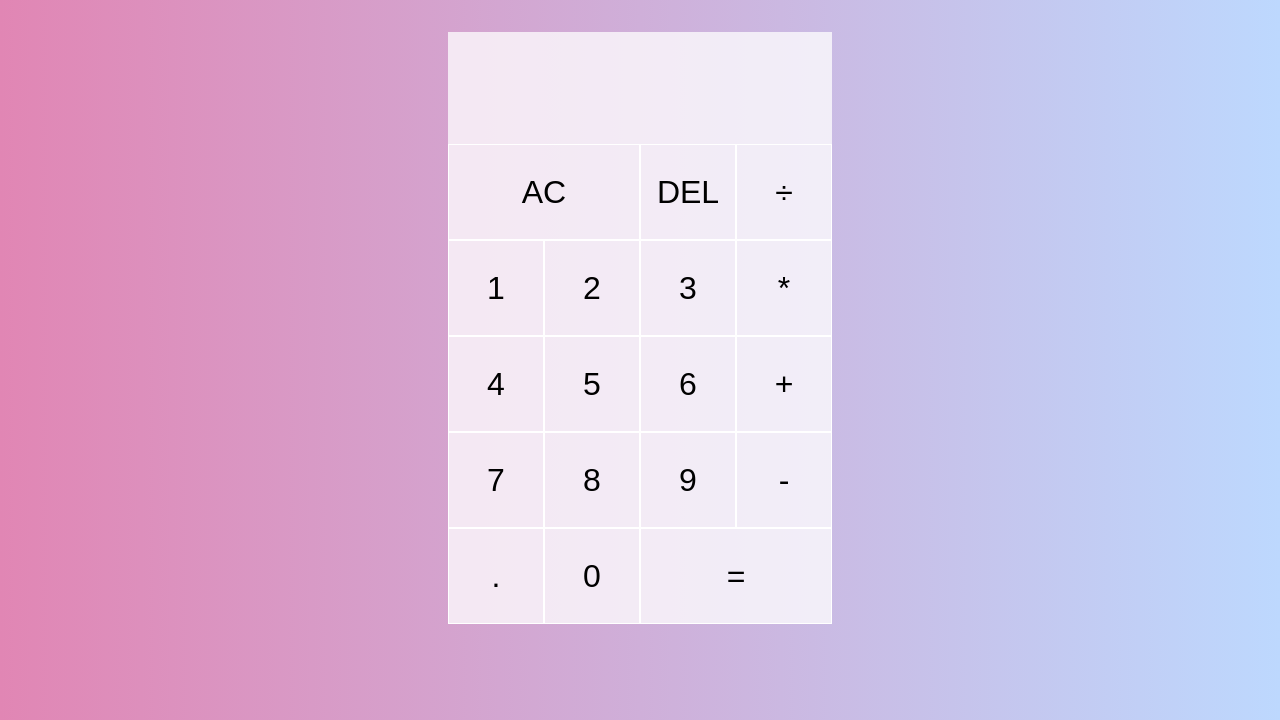
Test: calculator › should multiply two numbers
Click the button "5". click: (592, 384)
box: left=544, top=336, right=640, bottom=432
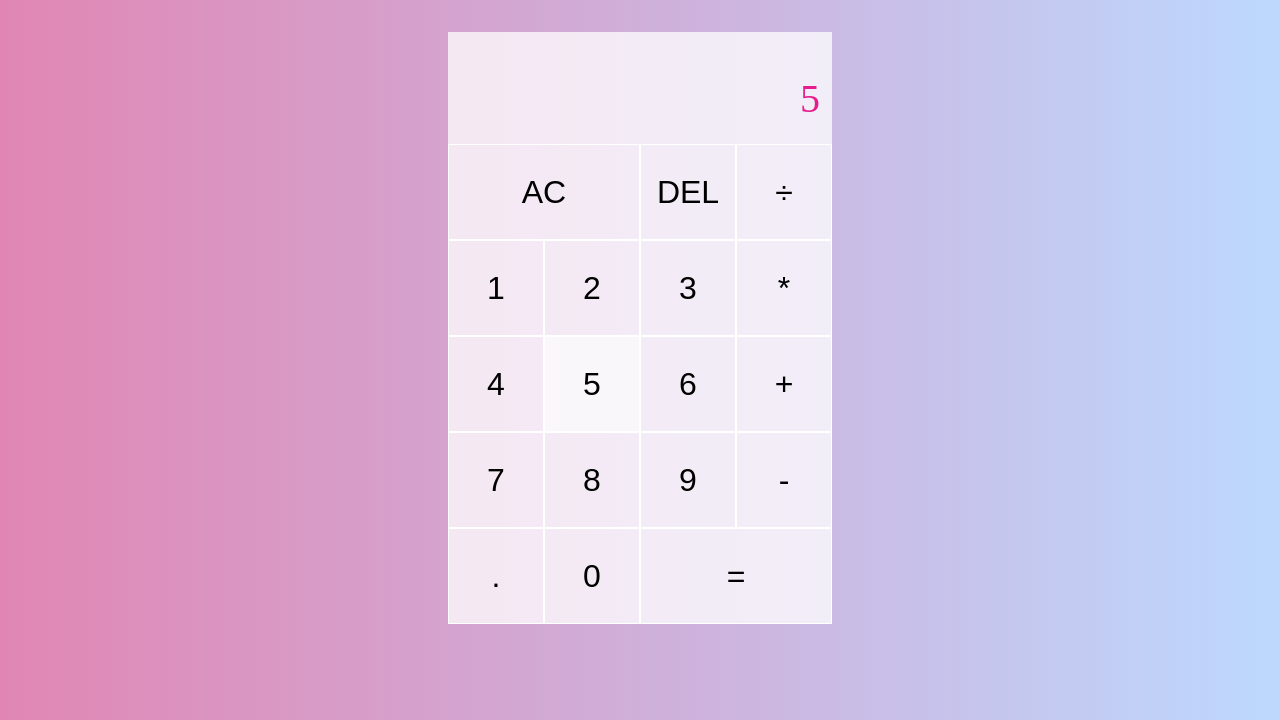
Click the button "*". click: (784, 288)
box: left=736, top=240, right=832, bottom=336
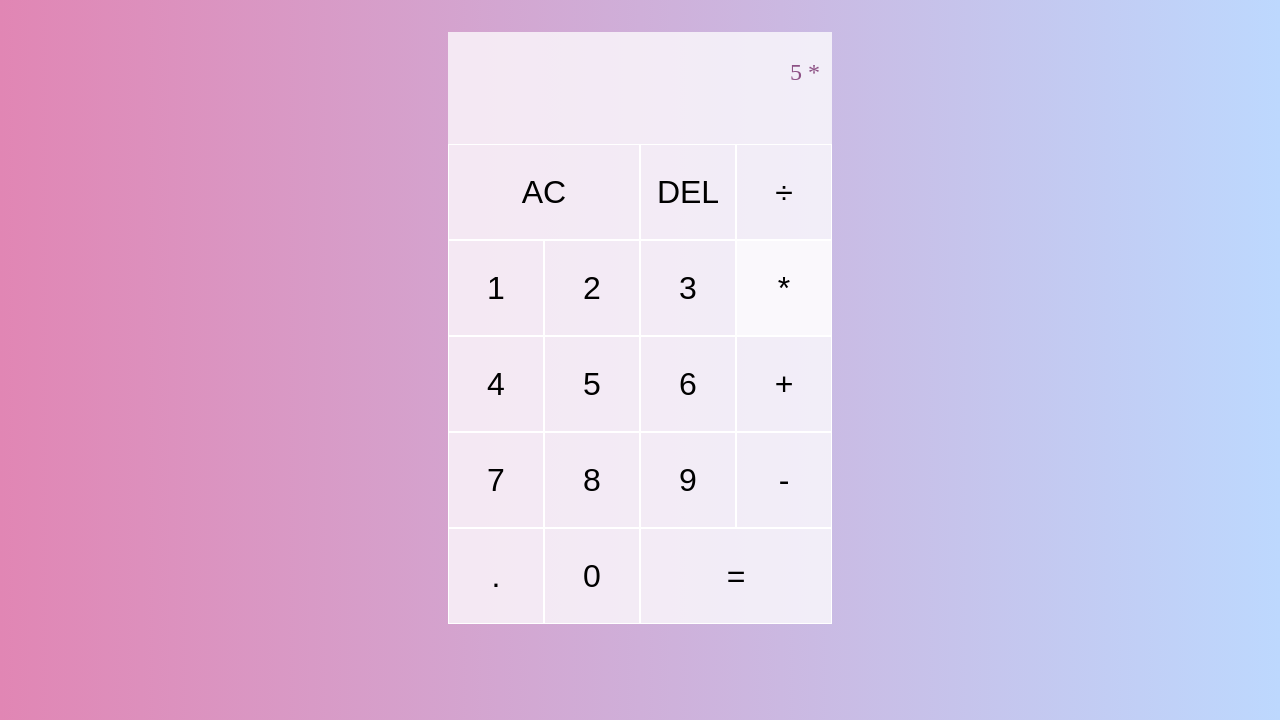
Click the button "4". click: (496, 384)
box: left=448, top=336, right=544, bottom=432
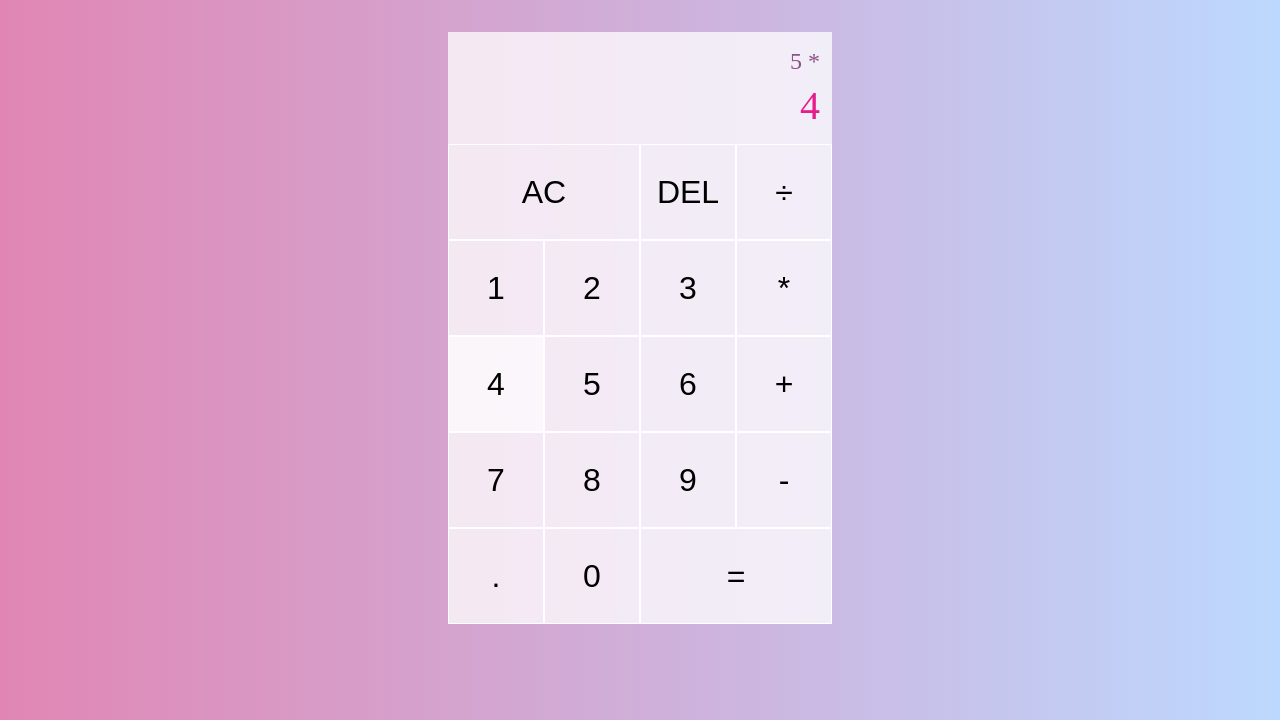
Click the button "=". click: (736, 576)
box: left=640, top=528, right=832, bottom=624
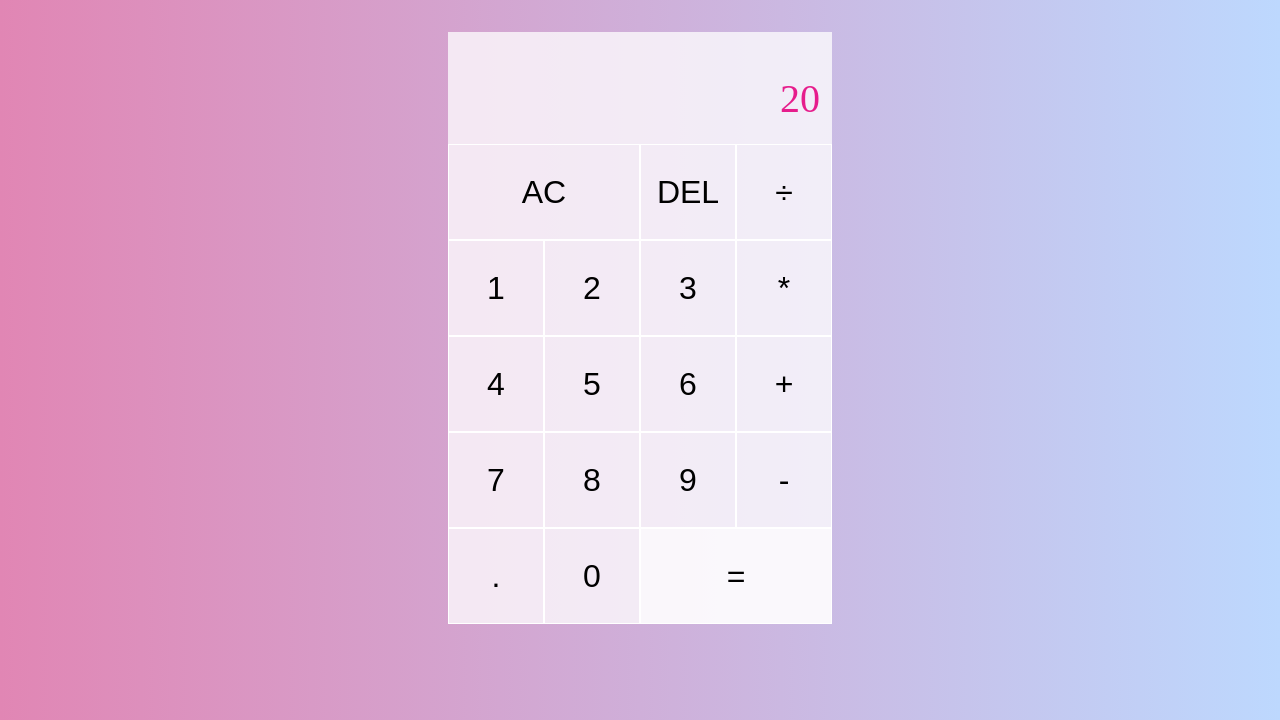
Result: the text with id "current-operand" reads "20" at left=780, top=76, right=820, bottom=121
